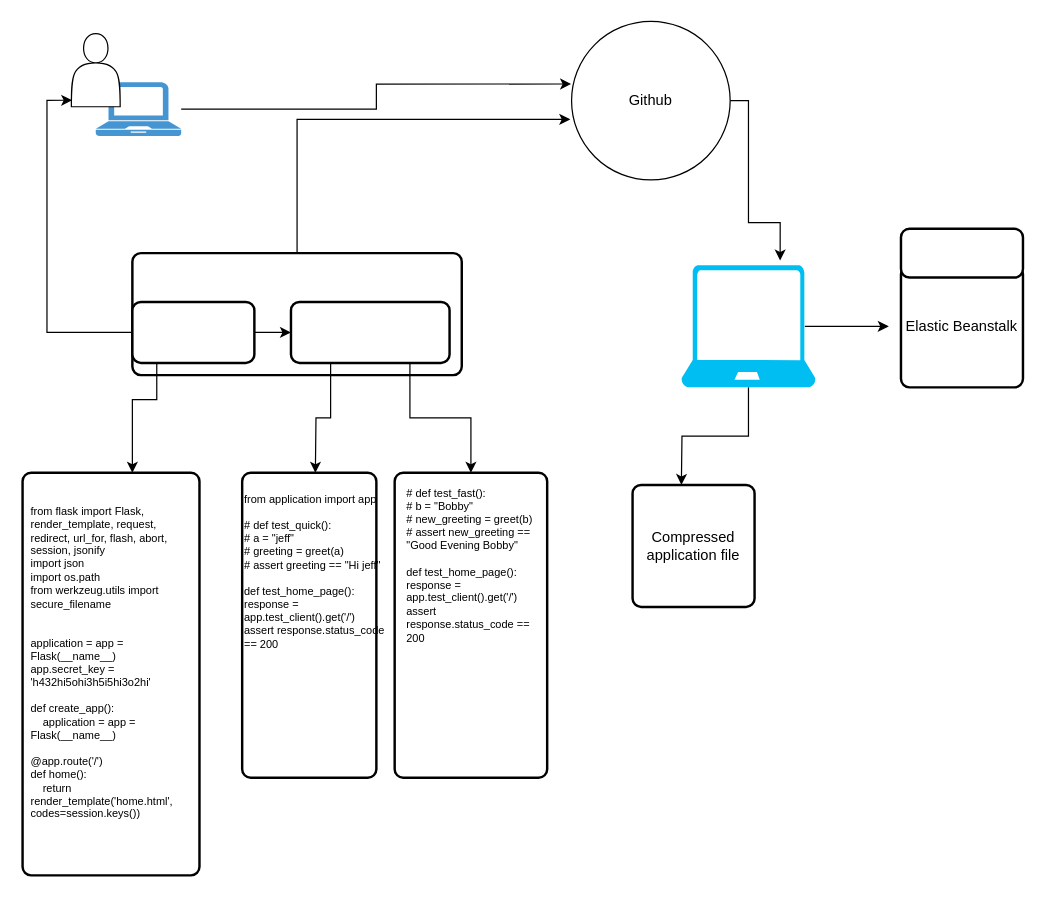
The diagram is 1044 pixels wide and 898 high, and some of its shapes have lost their labels. Here are the shapes that lost their labels. From the top down, the centre of each, then its label:
(x=961, y=252): failed deployment
(x=193, y=332): Build
(x=369, y=332): Test
